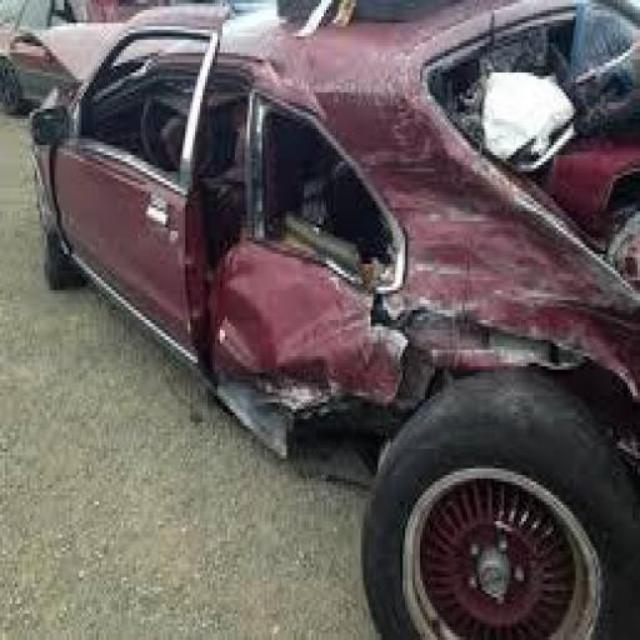crack: (372, 292, 640, 416)
dent: (324, 94, 639, 318)
dislocated part: (212, 99, 407, 459)
glass shatter: (261, 103, 400, 292)
